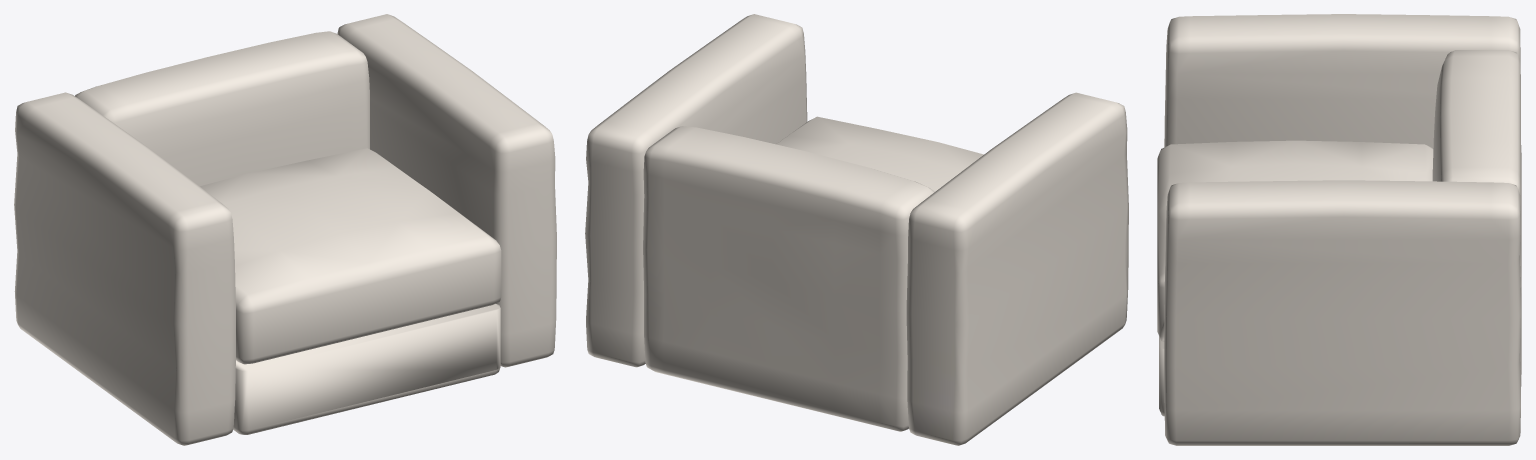
File: sofa.glb
3 renders of one model, left to right at view 1: azimuth 30°, elevation 25°; view 2: azimuth 150°, elevation 25°; view 3: azimuth 270°, elevation 25°, orthographic. The views are drawn at different scales.
Visible parts, largest first — view 1: Cushion01_low__mReFabric.001; view 2: Cushion01_low__mReFabric.001; view 3: Cushion01_low__mReFabric.001.
Part boxes in pixels (<box>): Cushion01_low__mReFabric.001: <box>14,14,556,445</box>; Cushion01_low__mReFabric.001: <box>585,14,1128,445</box>; Cushion01_low__mReFabric.001: <box>1157,14,1521,445</box>.
Bounding box in the file's own units: 1.1 × 0.6405 × 0.8595.
1 material, 1 textured.
